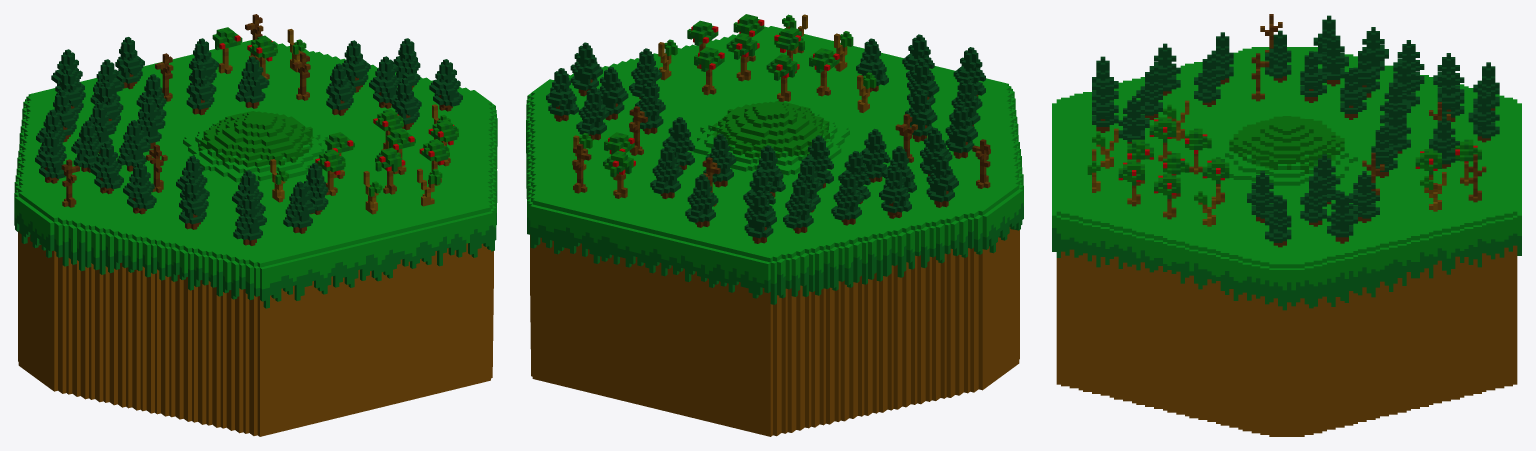
File: forest_hex_highland.obj
3 views of the same model, side by side, from view 1: azimuth 30°, elevation 25°; view 2: azimuth 150°, elevation 25°; view 3: azimuth 270°, elevation 25° (orthographic). The views are drawn at different scales.
Bounding box in the file's own units: 11.8 × 5.5 × 10.6.
1 material, 1 textured.
